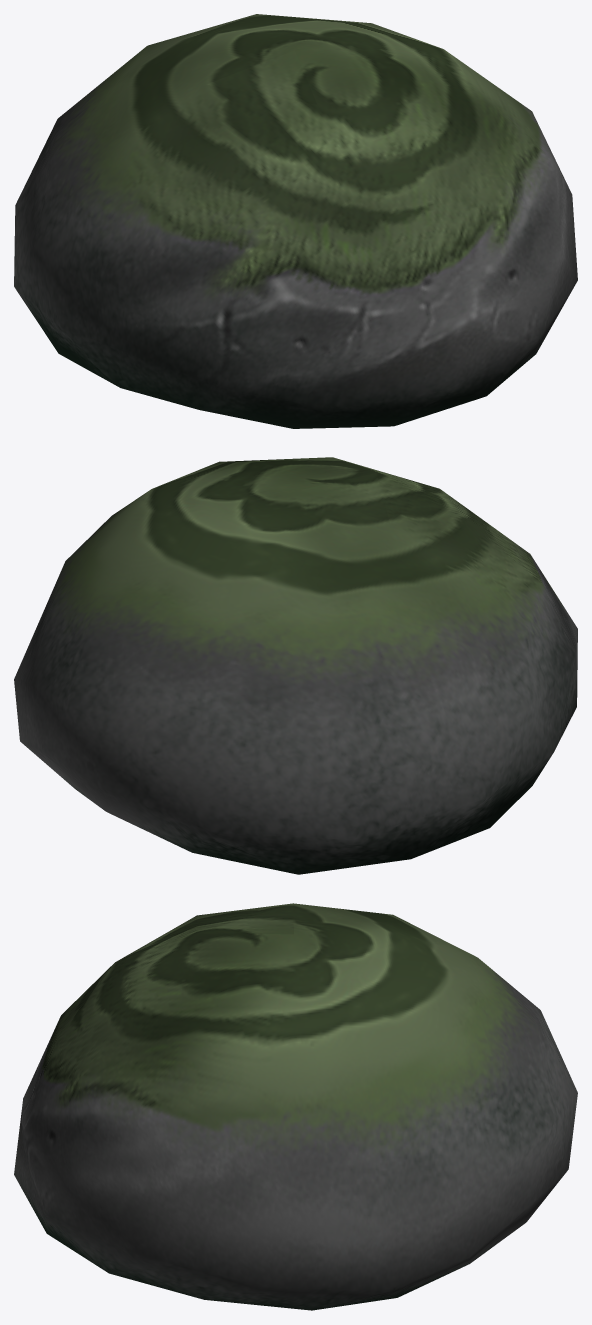
Rendered from rock.fbx.
3 renders of one model, top to bottom at view 1: azimuth 30°, elevation 25°; view 2: azimuth 150°, elevation 25°; view 3: azimuth 270°, elevation 25°, orthographic.
Parts seen in each view (by area): view 1: bolostanca; view 2: bolostanca; view 3: bolostanca.
Part boxes in pixels (x1,y1,x2,y2): bolostanca: (14, 14, 577, 428); bolostanca: (14, 457, 577, 874); bolostanca: (14, 903, 577, 1310).
Bounding box in the file's own units: 52.51 × 53.04 × 30.16.
